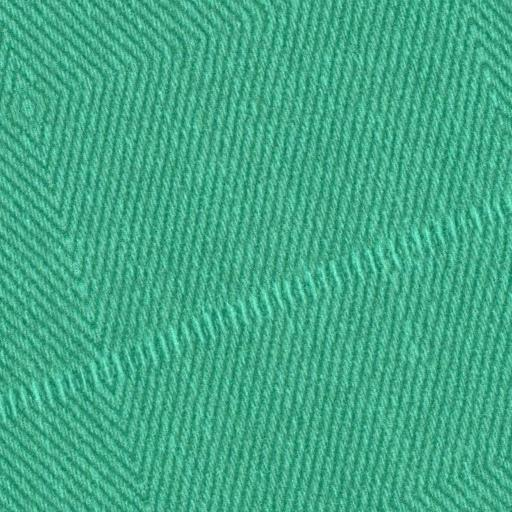slub: (0, 193, 510, 430)
